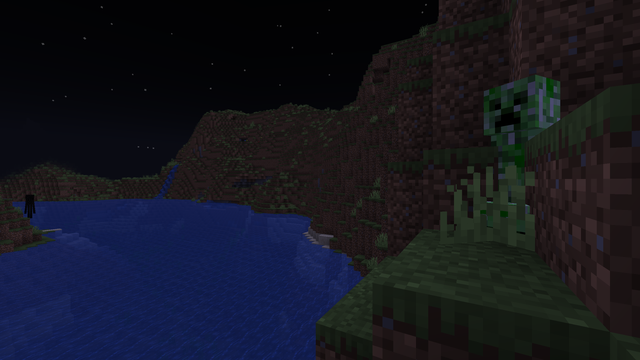creepers: (487, 62, 568, 242)
endermens: (25, 193, 33, 217)
